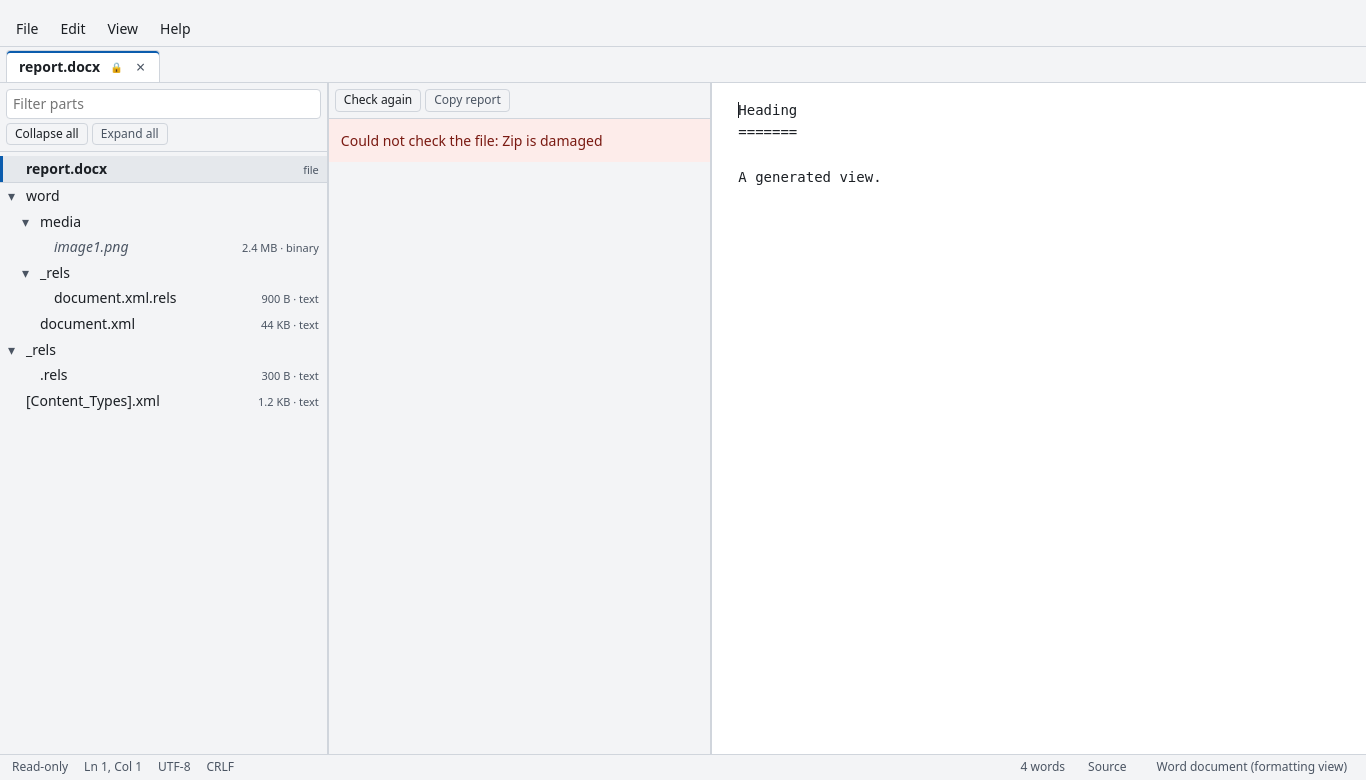
the Integrity pane › shows the error message when the check fails, and recovers with Check again
Expected: the message shows "Zip is damaged", [502, 131, 603, 150]
Click the button "Check again" at (378, 100), box [335, 89, 421, 112]
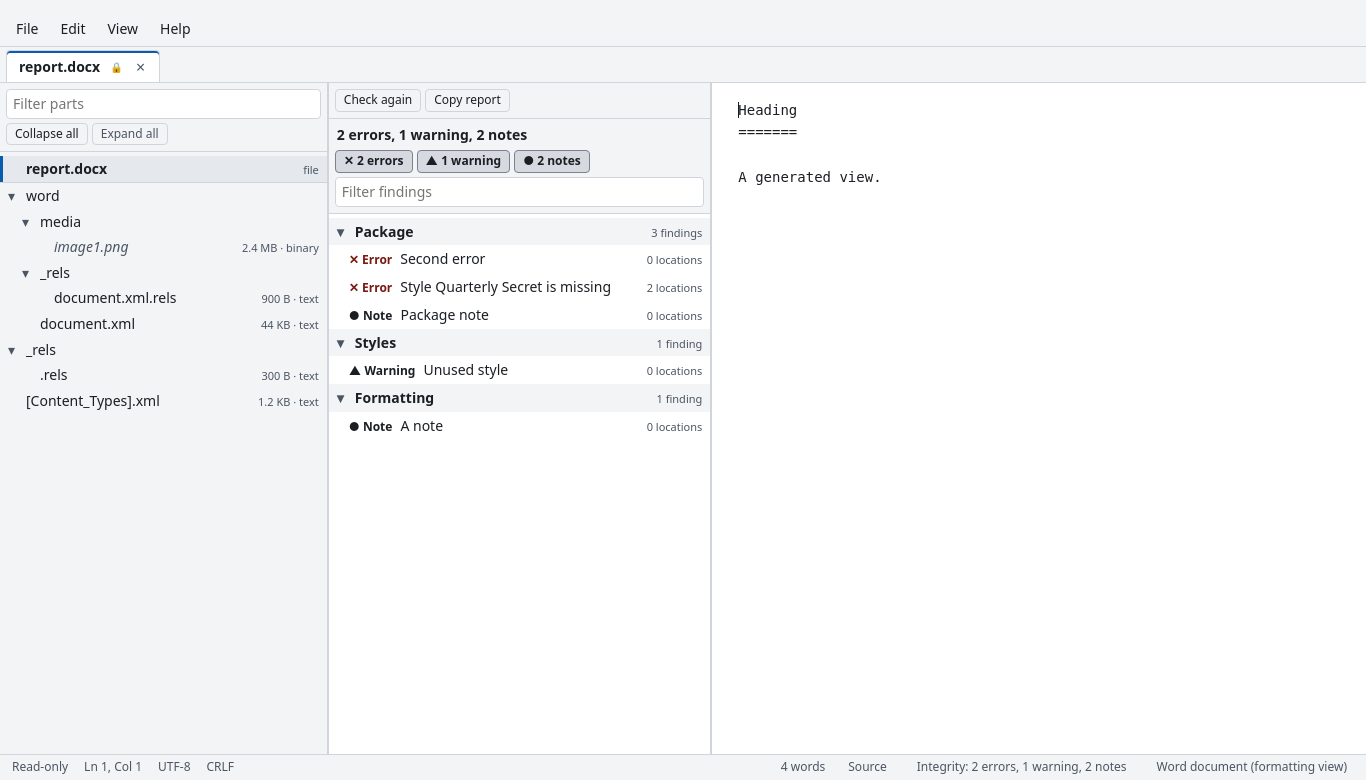
Result: the element "findings" is shown at [329, 214, 710, 754]
